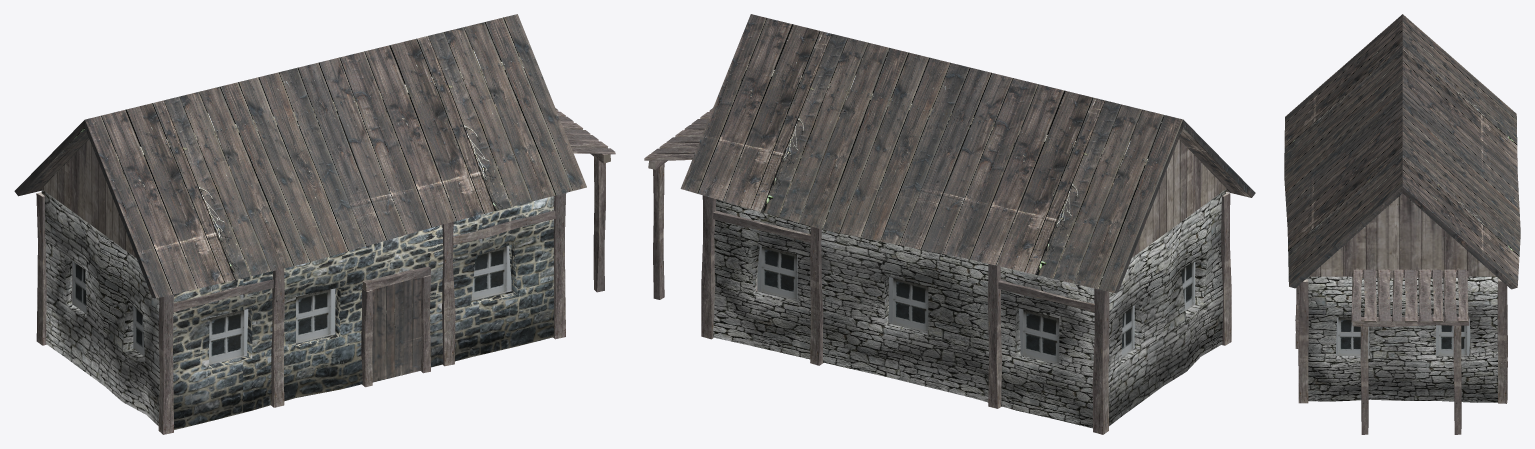
The model's file is HouseA.dae.
The picture shows the model from 3 angles, left to right: view 1: azimuth 30°, elevation 25°; view 2: azimuth 150°, elevation 25°; view 3: azimuth 270°, elevation 25°; orthographic projection. The views are drawn at different scales.
Visible parts, largest first — view 1: house; view 2: house; view 3: house.
Boxes of the visible parts, x1,y1,x2,y2 form: house: (14, 14, 615, 434); house: (644, 14, 1255, 434); house: (1284, 14, 1520, 434).
Bounding box in the file's own units: 4.89 × 2.45 × 2.55.
7 materials, 7 textured.
